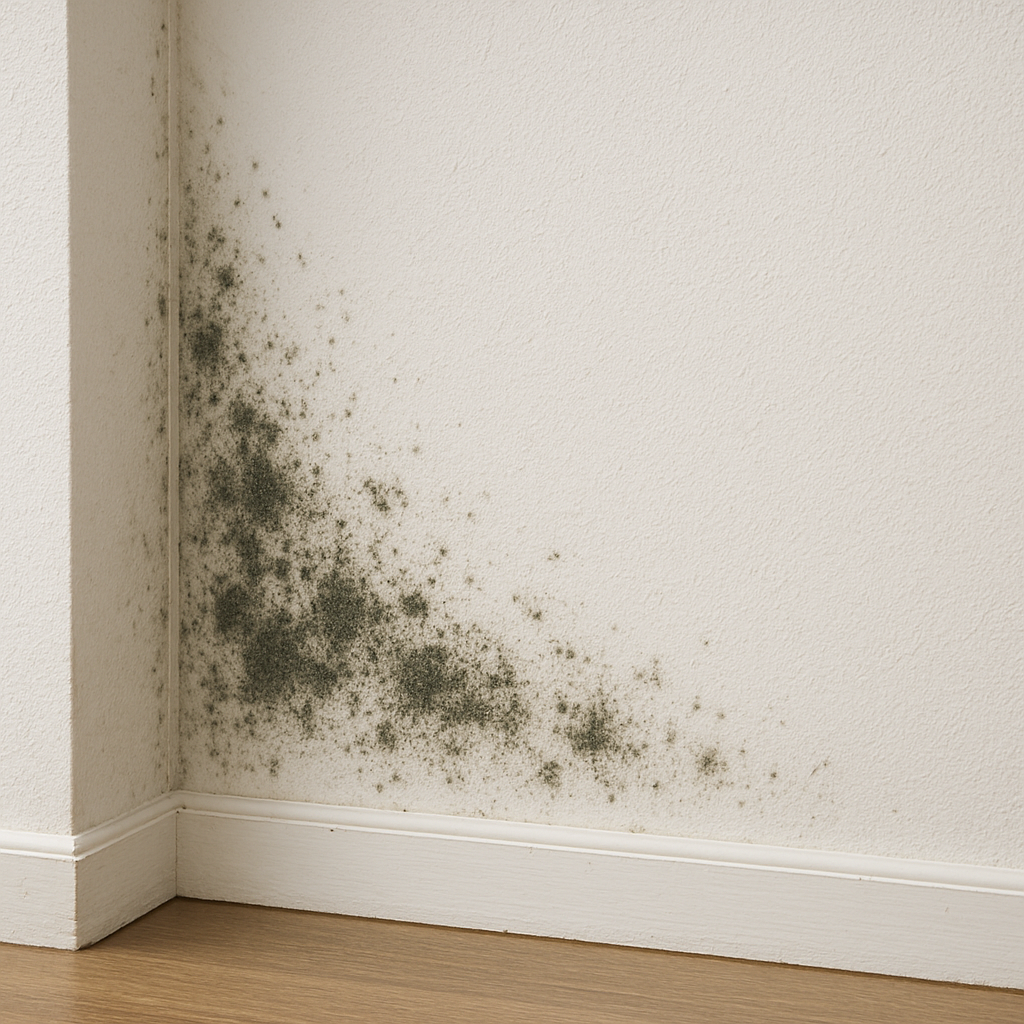schimmel: (195, 317, 320, 711), (400, 634, 526, 740), (322, 559, 375, 710), (559, 698, 643, 757), (391, 576, 445, 615)
